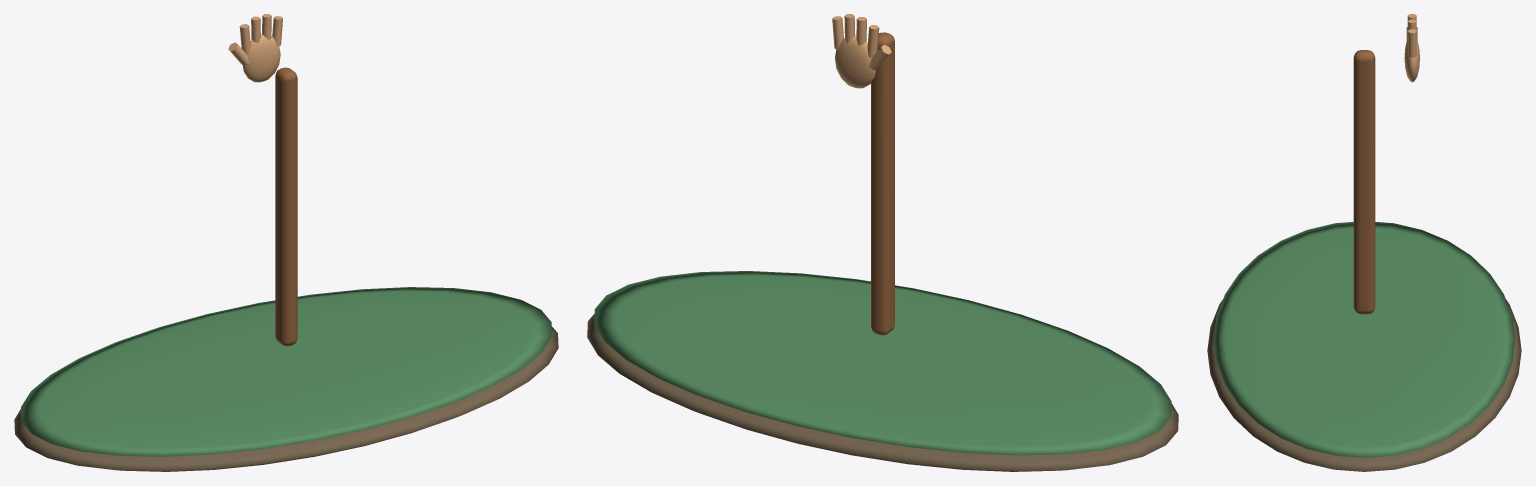
Rendered from complete-third-solid-stick.glb.
3 views of the same model, side by side, from view 1: azimuth 30°, elevation 25°; view 2: azimuth 150°, elevation 25°; view 3: azimuth 270°, elevation 25° (orthographic). The views are drawn at different scales.
Visible parts, largest first — view 1: complete-third-solid-stick_surface_01, complete-third-solid-stick_surface_00, complete-third-solid-stick_surface_02, complete-third-solid-stick_surface_03; view 2: complete-third-solid-stick_surface_01, complete-third-solid-stick_surface_00, complete-third-solid-stick_surface_02, complete-third-solid-stick_surface_03; view 3: complete-third-solid-stick_surface_01, complete-third-solid-stick_surface_02, complete-third-solid-stick_surface_00, complete-third-solid-stick_surface_03.
Part boxes in pixels (bbox=[...]): complete-third-solid-stick_surface_01: bbox=[21, 287, 551, 456]; complete-third-solid-stick_surface_00: bbox=[14, 327, 558, 471]; complete-third-solid-stick_surface_02: bbox=[275, 67, 297, 346]; complete-third-solid-stick_surface_03: bbox=[228, 14, 282, 82]; complete-third-solid-stick_surface_01: bbox=[594, 271, 1171, 455]; complete-third-solid-stick_surface_00: bbox=[587, 313, 1178, 471]; complete-third-solid-stick_surface_02: bbox=[871, 32, 894, 335]; complete-third-solid-stick_surface_03: bbox=[832, 14, 891, 88]; complete-third-solid-stick_surface_01: bbox=[1213, 222, 1515, 457]; complete-third-solid-stick_surface_02: bbox=[1353, 50, 1375, 314]; complete-third-solid-stick_surface_00: bbox=[1207, 299, 1521, 471]; complete-third-solid-stick_surface_03: bbox=[1404, 14, 1419, 82].
Size of the model in its own units: 4.56 by 3.05 by 2.5.
